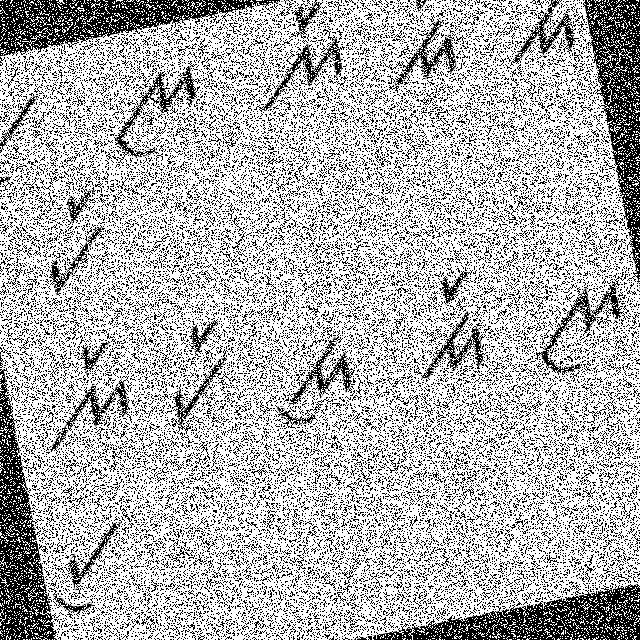da: (493, 0, 588, 77)
dar: (390, 254, 502, 388), (372, 0, 475, 93)
daw: (251, 311, 372, 444)
nar: (17, 329, 147, 461), (238, 0, 356, 118)
naw: (518, 268, 632, 382), (94, 53, 211, 164)
par: (21, 185, 127, 300), (148, 307, 242, 436)
paw: (37, 514, 146, 619), (0, 73, 62, 196)
